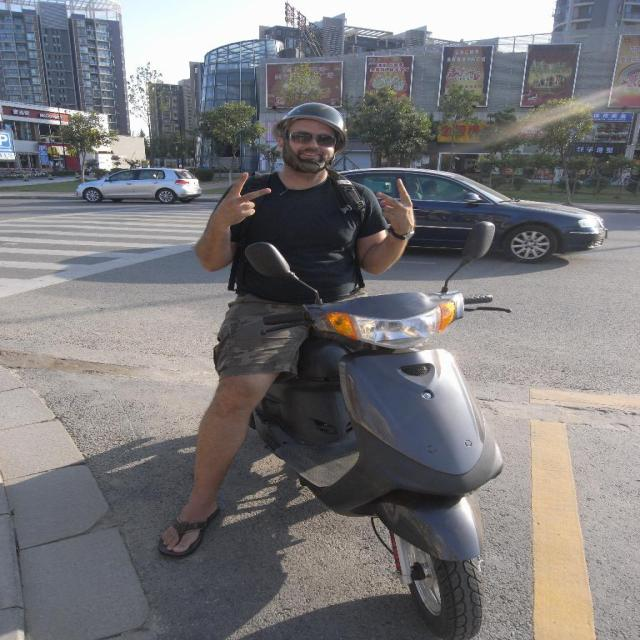Motorbikes: (246, 288, 518, 638)
Passenger Car: (435, 164, 611, 264), (71, 167, 203, 204)
